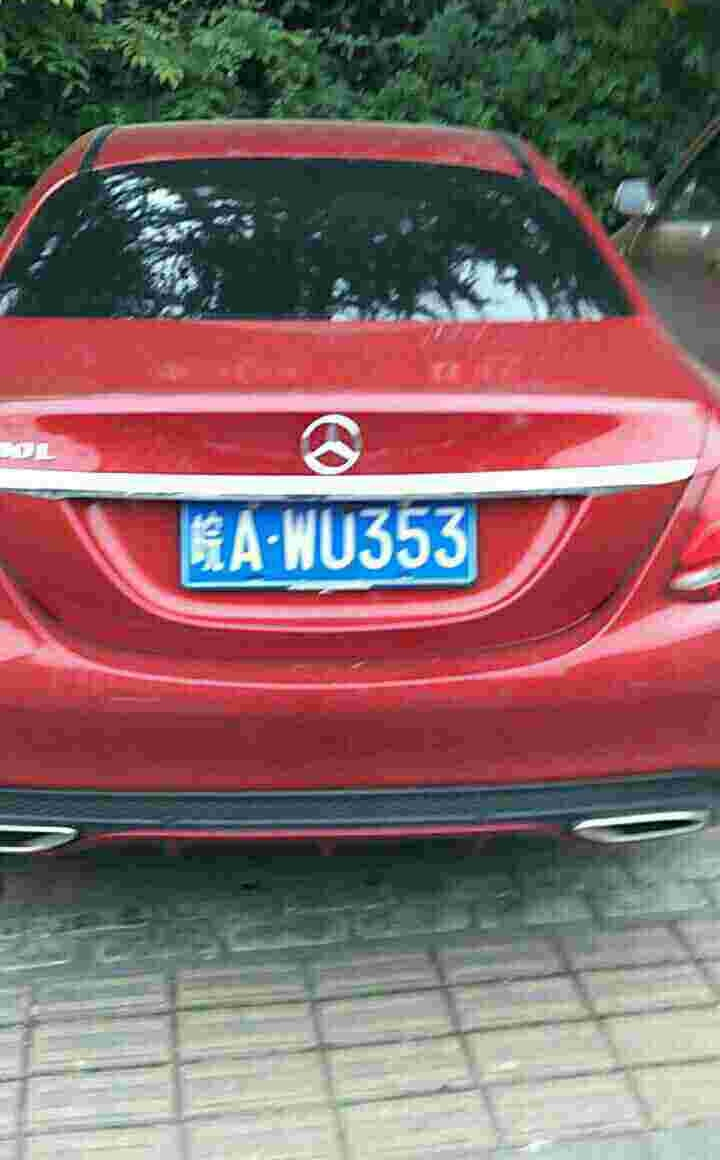license_plate: (190, 501, 480, 571)
